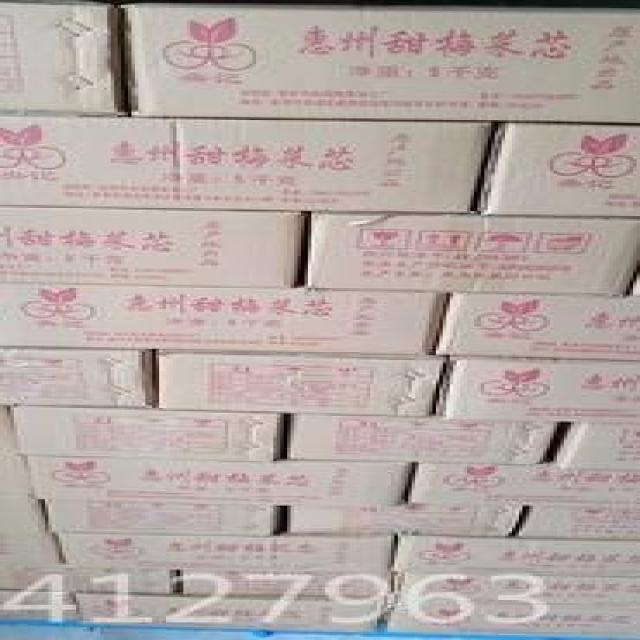box: (125, 1, 637, 123), (0, 112, 502, 212), (0, 283, 453, 354), (303, 212, 637, 296), (0, 206, 312, 287), (50, 535, 400, 595), (156, 349, 453, 417), (23, 454, 418, 504), (472, 123, 637, 218), (8, 406, 291, 461), (0, 2, 131, 118), (429, 289, 637, 358), (288, 413, 564, 465), (439, 357, 637, 419), (0, 342, 162, 410), (403, 459, 637, 506), (77, 594, 385, 627), (397, 538, 635, 578), (382, 598, 637, 635), (276, 503, 532, 539), (48, 497, 286, 535), (387, 573, 637, 608), (511, 503, 637, 541), (547, 418, 637, 469), (0, 535, 72, 594), (0, 590, 81, 625), (0, 454, 44, 502), (0, 499, 57, 536)
